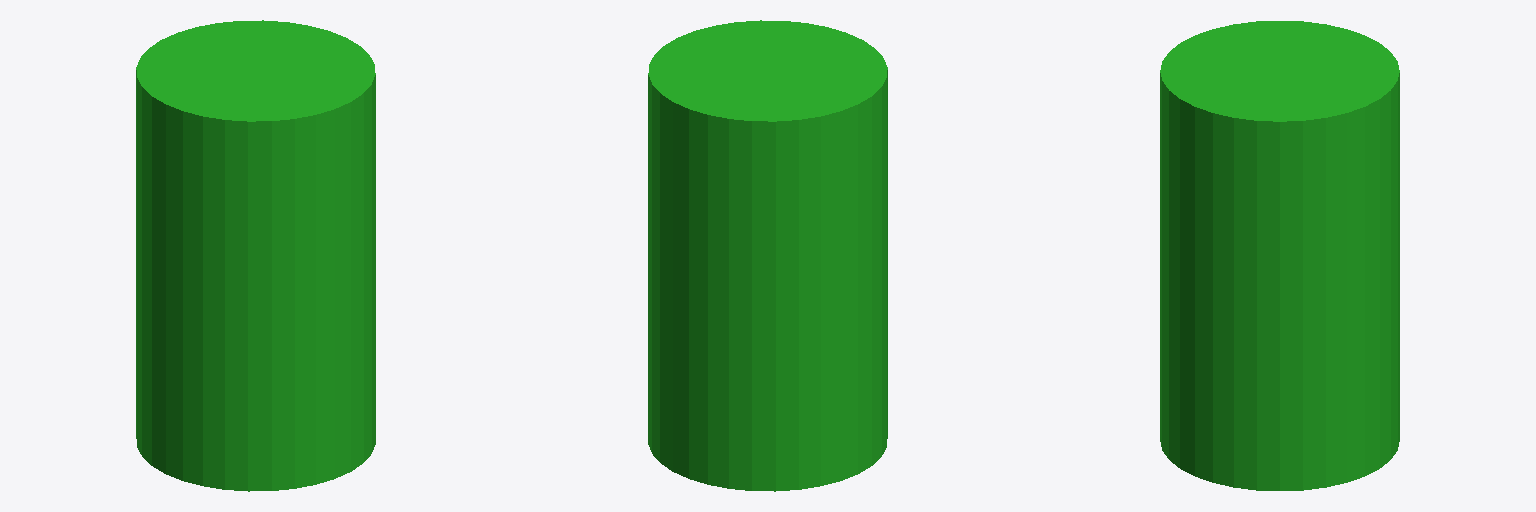
URDF robot description (cylinder):
<?xml version="1.0"?>
<robot name="cylinder">
  <link name="base_link">

    <visual>
      <geometry>
        <!-- diameter = 47 mm  →  radius = 0.0235 m -->
        <!-- height = 80 mm -->
        <cylinder radius="0.0235" length="0.080"/>
      </geometry>
      <material name="green">
        <color rgba="0.2 0.75 0.2 1.0"/>
      </material>
    </visual>

    <collision>
      <geometry>
        <cylinder radius="0.0235" length="0.080"/>
      </geometry>
    </collision>

    <inertial>
      <mass value="0.1"/>
      <inertia ixx="0.0001" ixy="0" ixz="0"
               iyy="0.0001" iyz="0"
               izz="0.0001"/>
    </inertial>

  </link>
</robot>

--- Render facts (derived) ---
The picture shows the robot from 3 angles, left to right: view 1: azimuth 30°, elevation 25°; view 2: azimuth 150°, elevation 25°; view 3: azimuth 270°, elevation 25°; orthographic projection.
Model cylinder with 1 links and 0 joints (none), rooted at base_link, posed all joints at 0.
Links seen in each view (by area): view 1: base_link; view 2: base_link; view 3: base_link.
Boxes of the visible links, bbox=[...] form: base_link: bbox=[136, 20, 375, 491]; base_link: bbox=[648, 20, 887, 491]; base_link: bbox=[1160, 21, 1399, 490].
Bounding box of the posed robot: 0.047 × 0.047 × 0.08 m (x, y, z).
Geometry: primitives only (box / cylinder / sphere), no mesh files.
